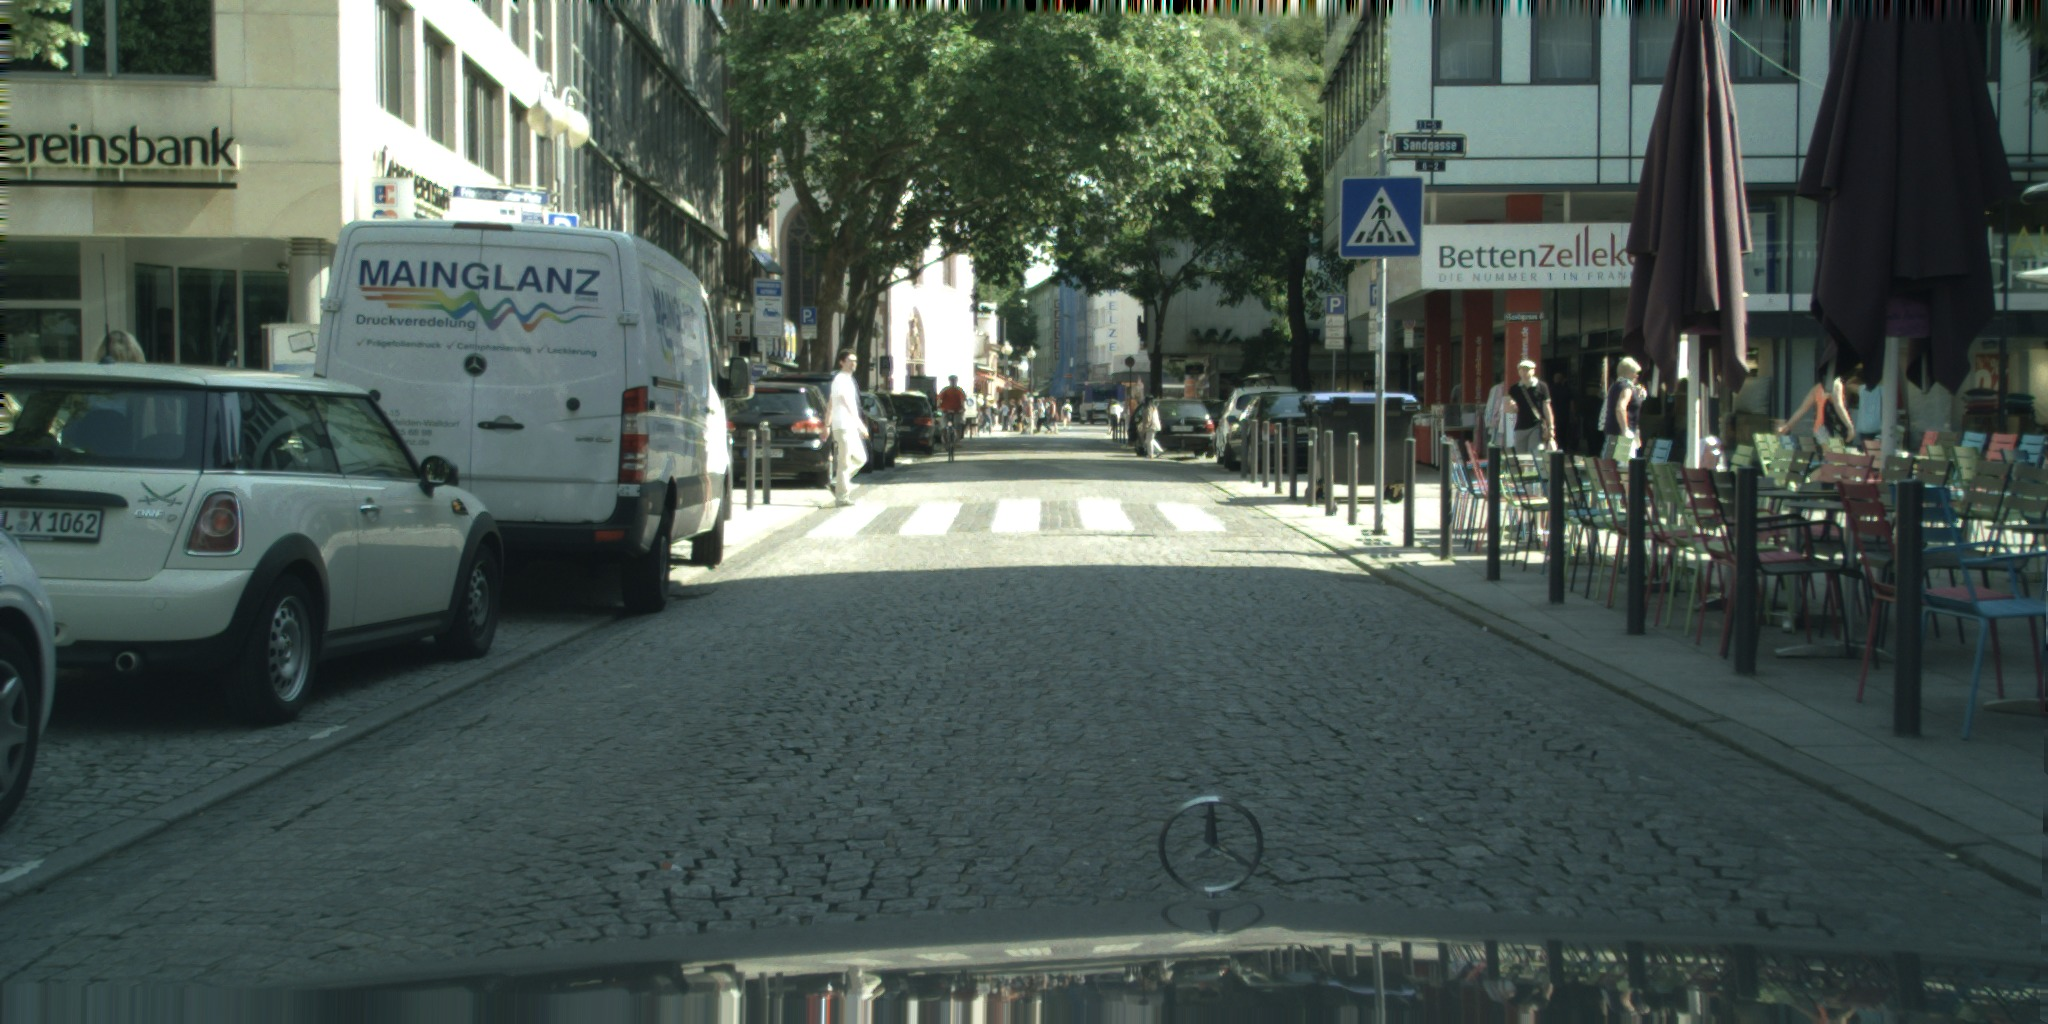bicycle: (939, 409, 964, 461)
bus: (1072, 382, 1126, 423)
car: (0, 359, 504, 723), (312, 218, 755, 611), (0, 524, 57, 829), (721, 381, 840, 487), (1223, 393, 1334, 473), (1208, 385, 1300, 465), (879, 388, 936, 455)
person: (1776, 373, 1855, 457), (1502, 359, 1558, 474), (828, 349, 869, 507), (1596, 356, 1648, 471), (1844, 374, 1889, 451), (91, 329, 148, 373), (1136, 395, 1165, 460)
rider: (936, 374, 966, 446)
